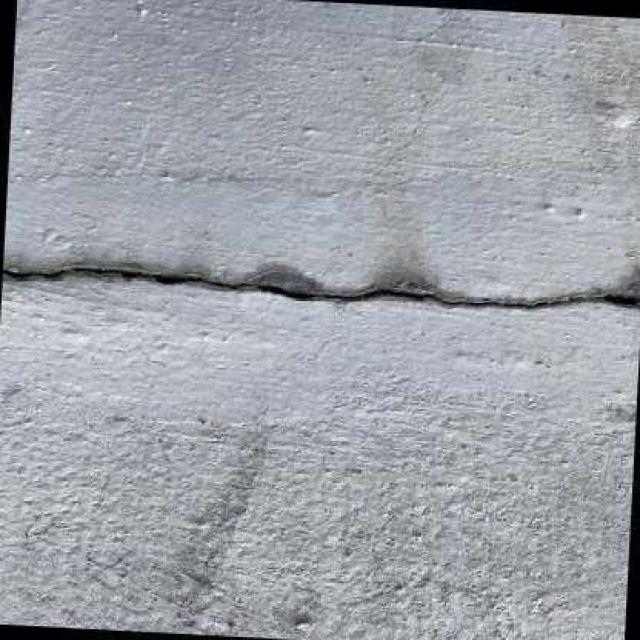D00: (2, 264, 640, 309)
